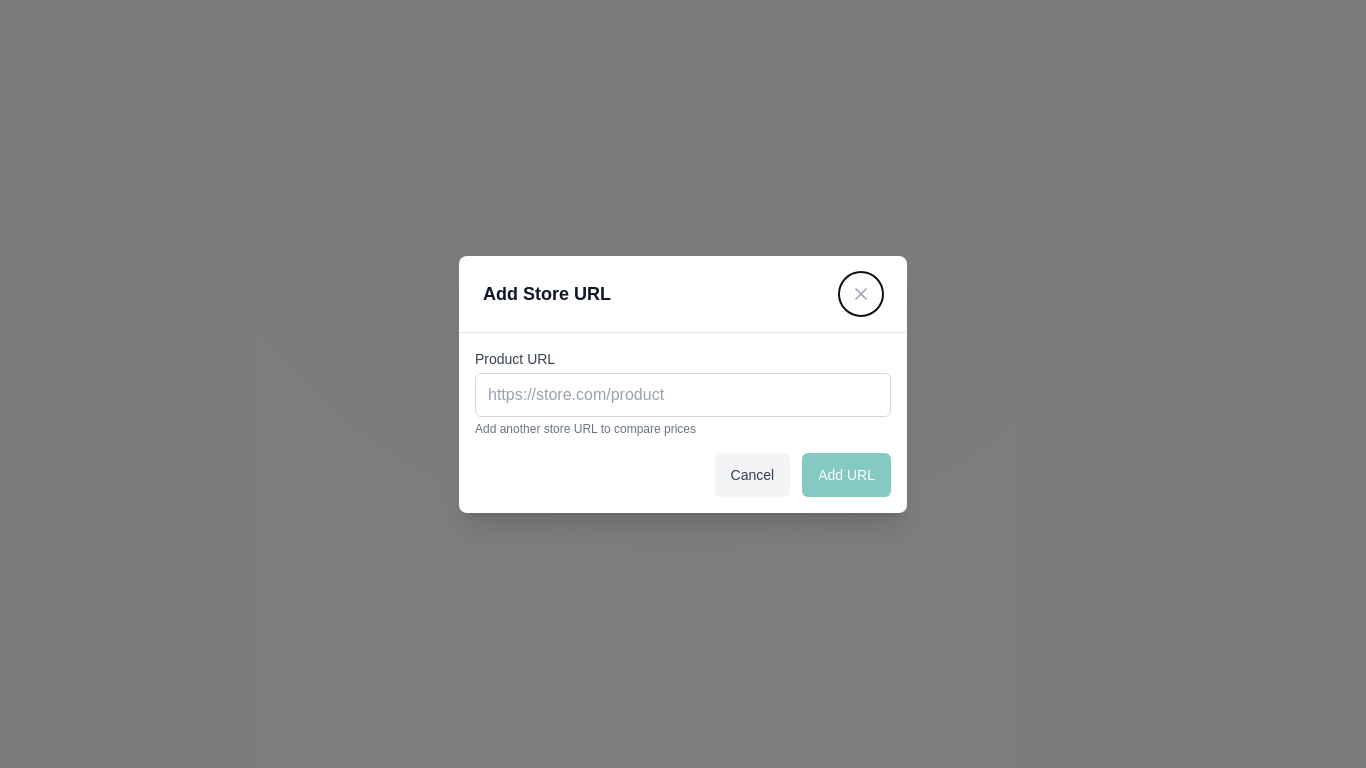
Test: AddUrlModal › validation › should announce the error when the URL is invalid on blur
Type "not-a-url" into the field labelled "Product URL" at (683, 394), box [475, 372, 891, 416]
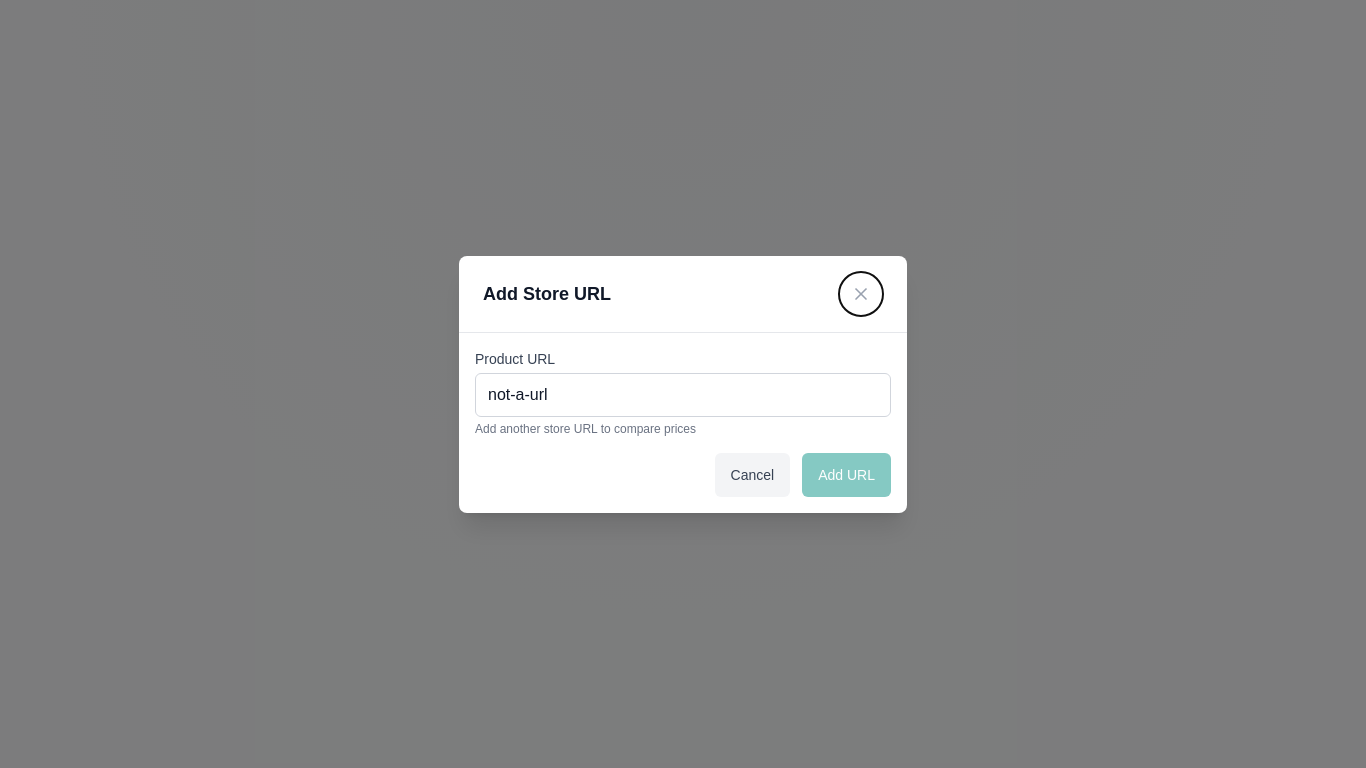
Leave the field labelled "Product URL", box [475, 372, 891, 416]
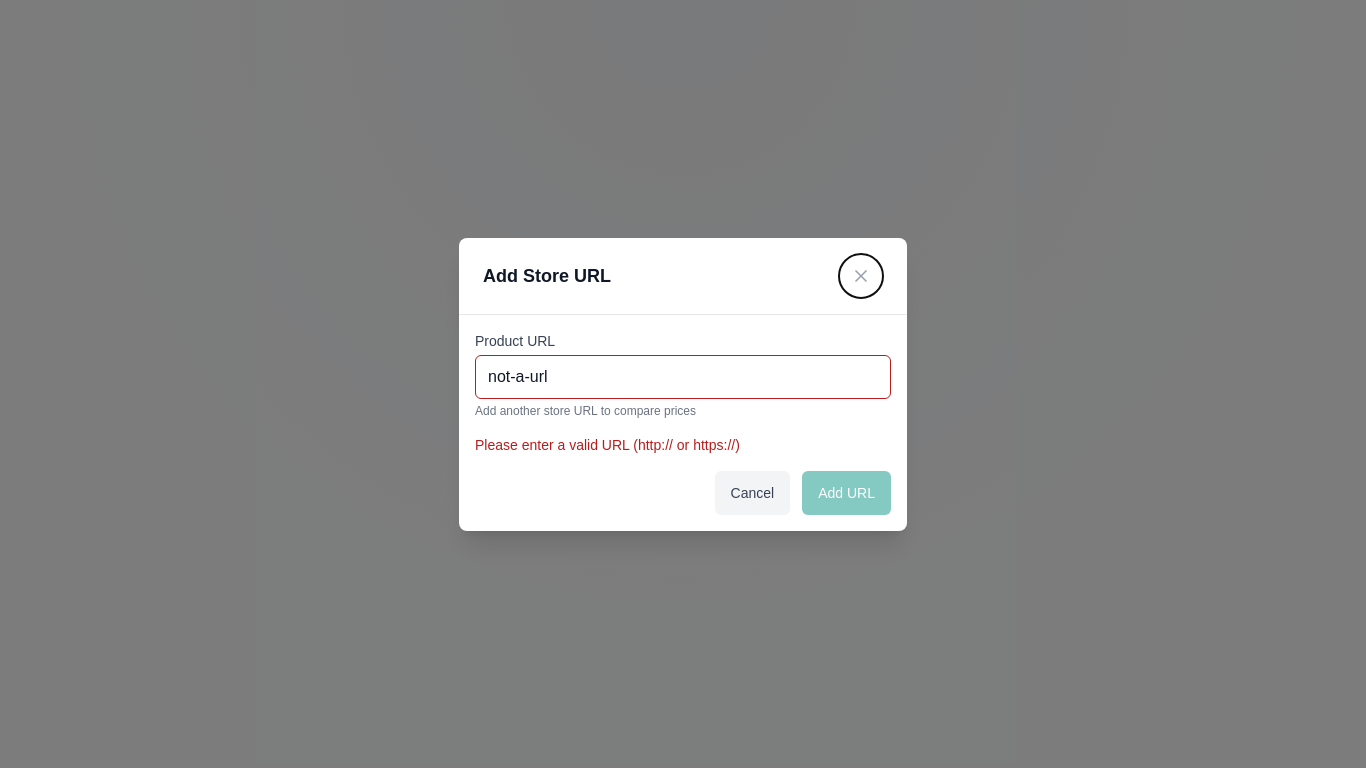
Expected: the message shows "Please enter a valid URL", [475, 436, 740, 452]
